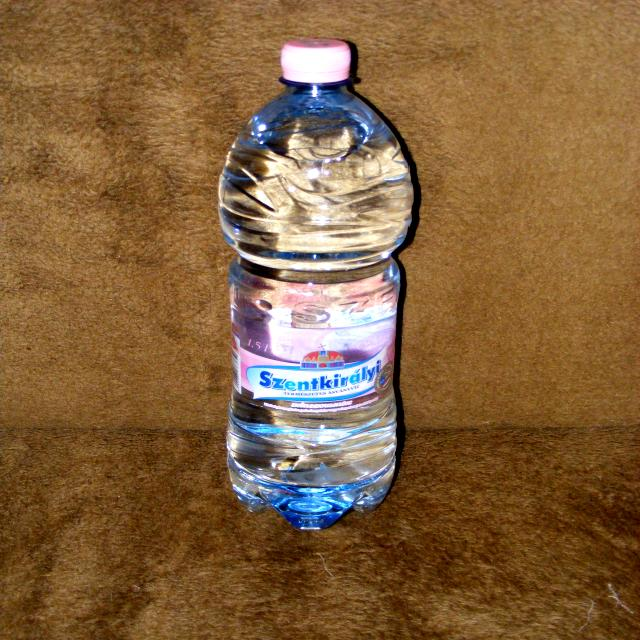full-bottle: (212, 38, 410, 531)
